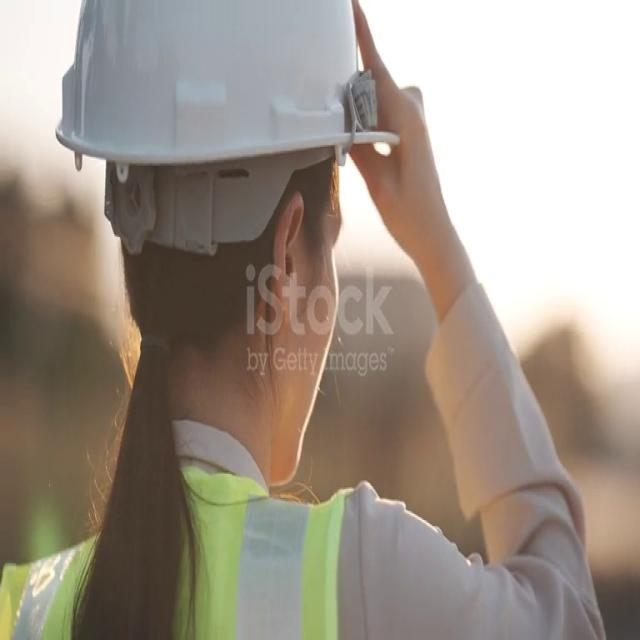capacete: (37, 6, 416, 250)
